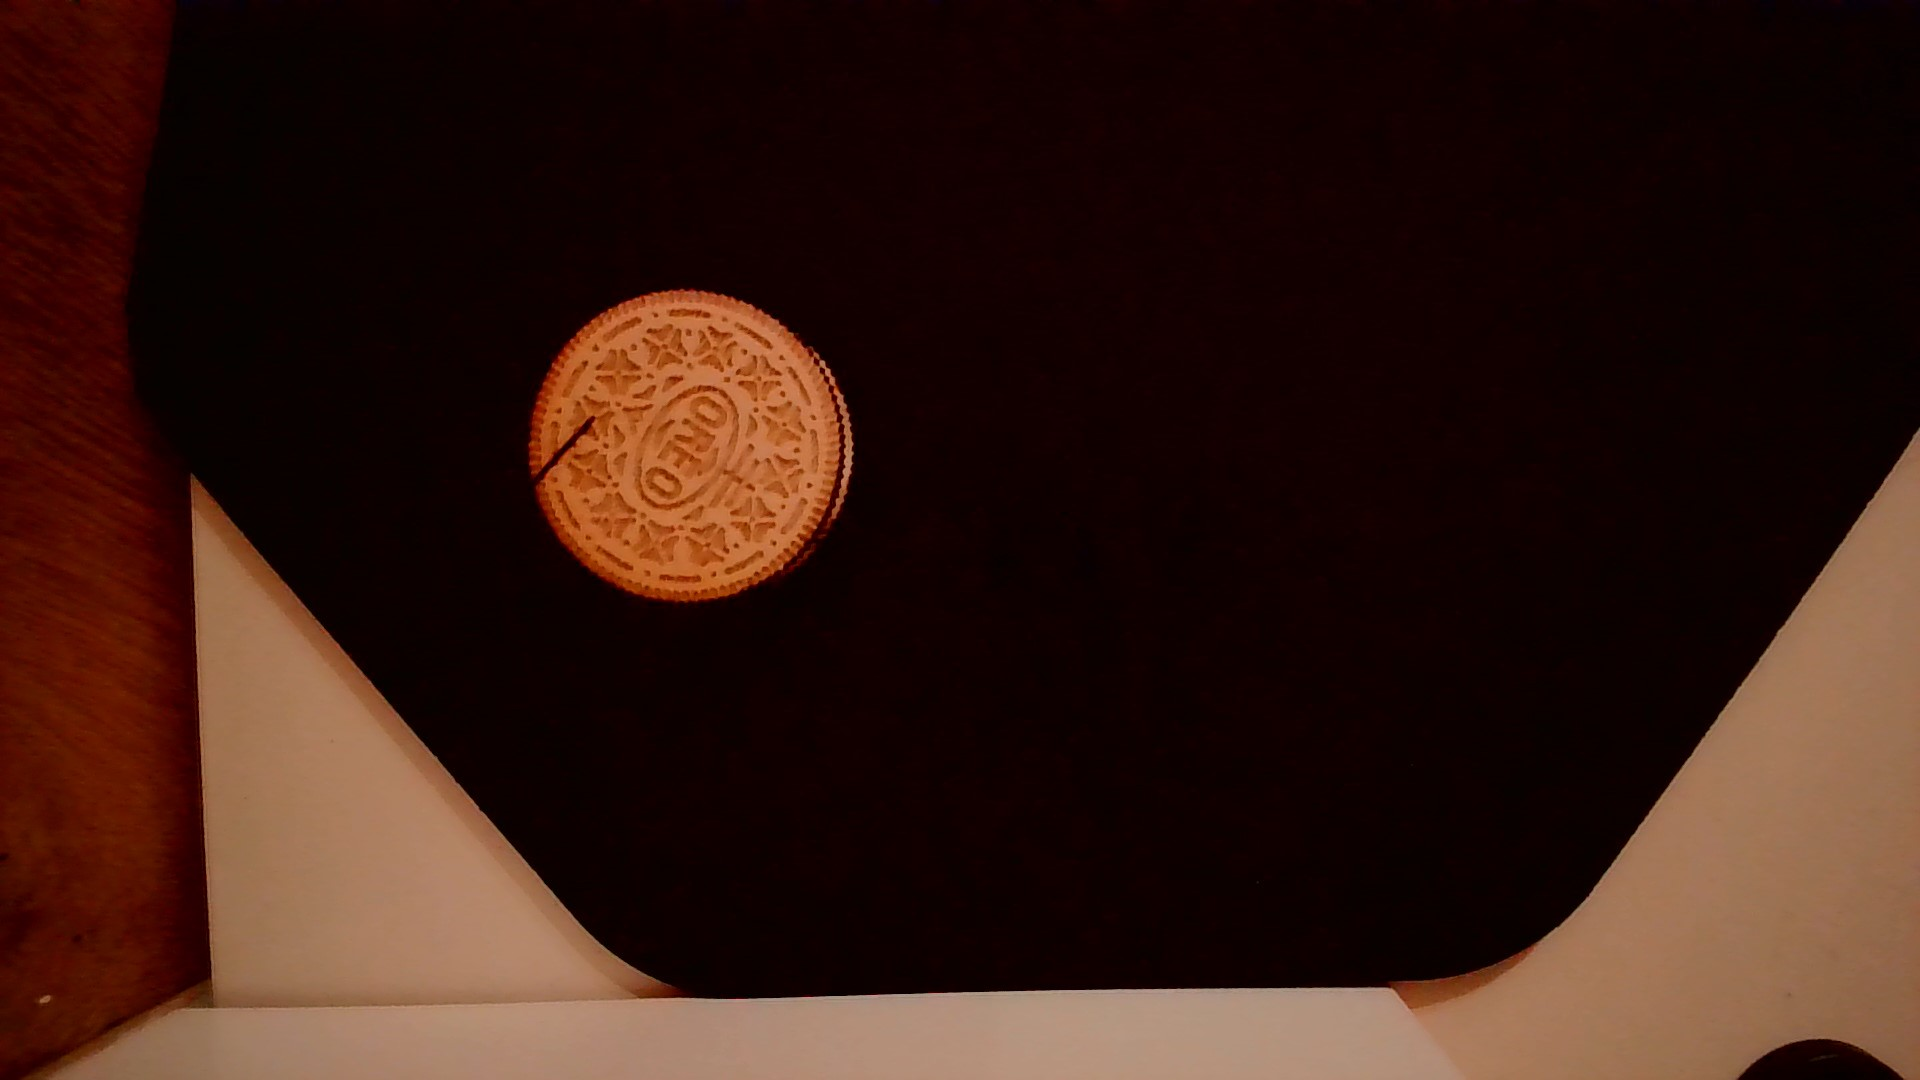Fissure: (516, 409, 607, 495)
Oréo: (520, 282, 856, 612)
